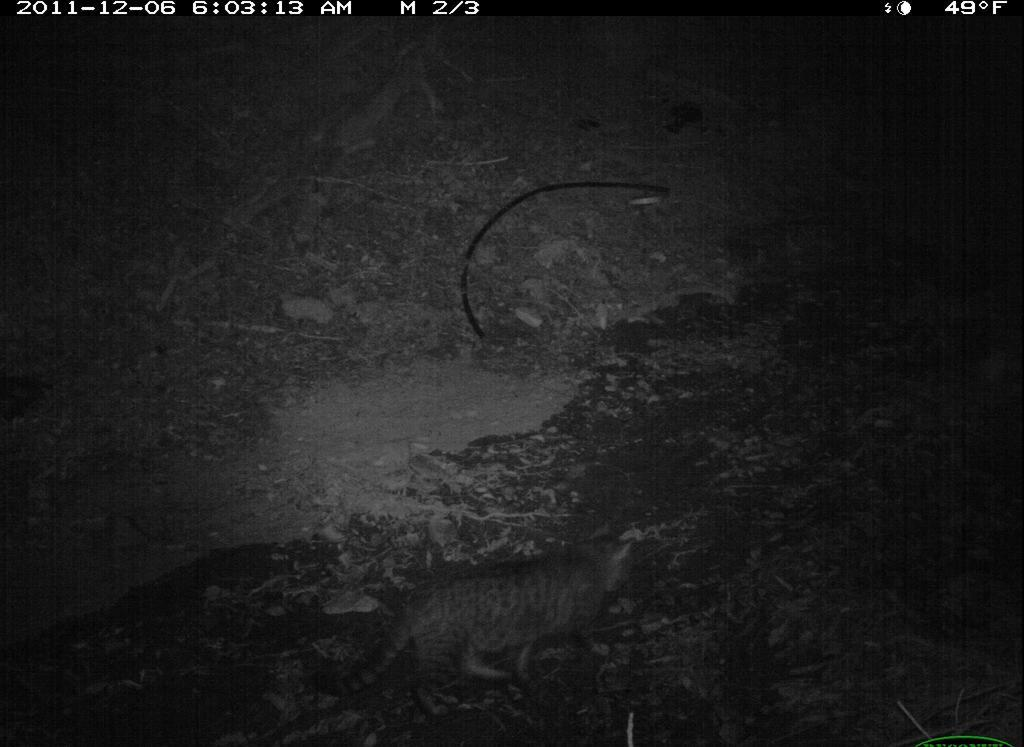cat: (303, 528, 688, 725)
